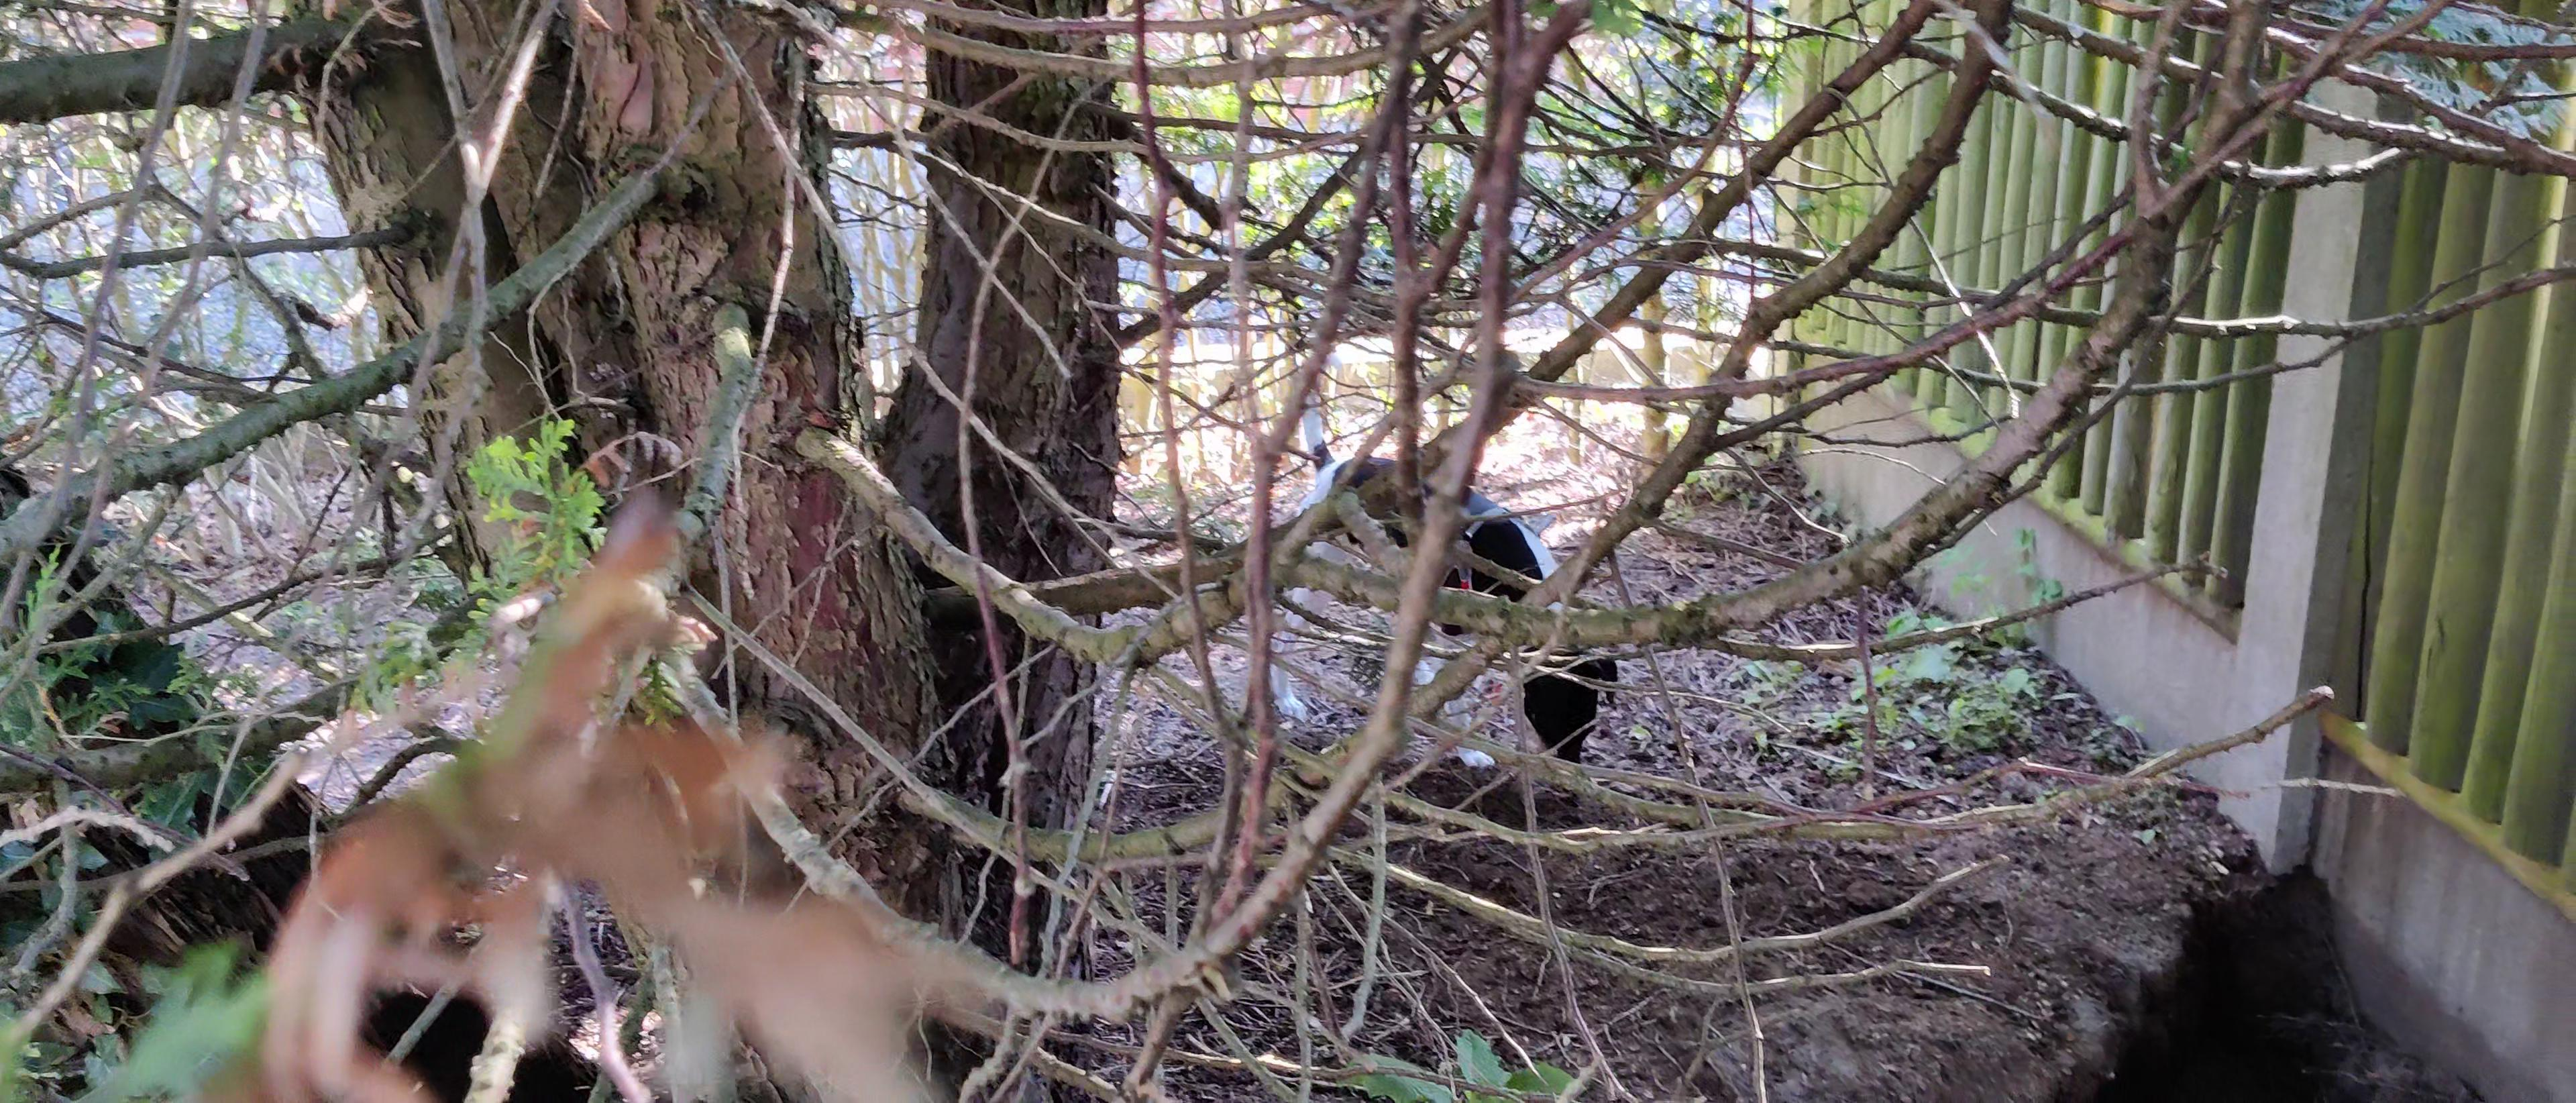Dog: (1250, 298, 1631, 814)
